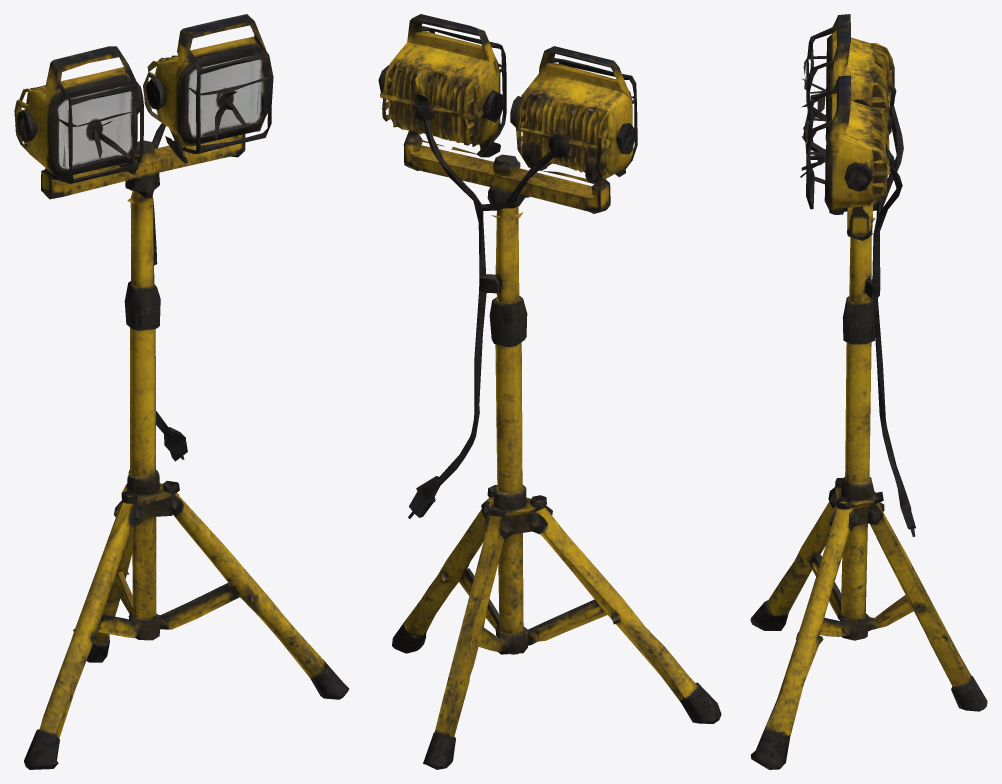
Rendered from p7-tripod-work-light.glb.
3 renders of one model, left to right at view 1: azimuth 30°, elevation 25°; view 2: azimuth 150°, elevation 25°; view 3: azimuth 270°, elevation 25°, orthographic. The views are drawn at different scales.
Parts seen in each view (by area): view 1: p7-tripod-work-light; view 2: p7-tripod-work-light; view 3: p7-tripod-work-light.
Part boxes in pixels (<box>): p7-tripod-work-light: <box>14,14,349,769</box>; p7-tripod-work-light: <box>378,14,721,769</box>; p7-tripod-work-light: <box>750,14,987,769</box>.
Size of the model in its own units: 0.9033 by 1.8 by 0.6.
Materials: 1 (1 with a texture image).
